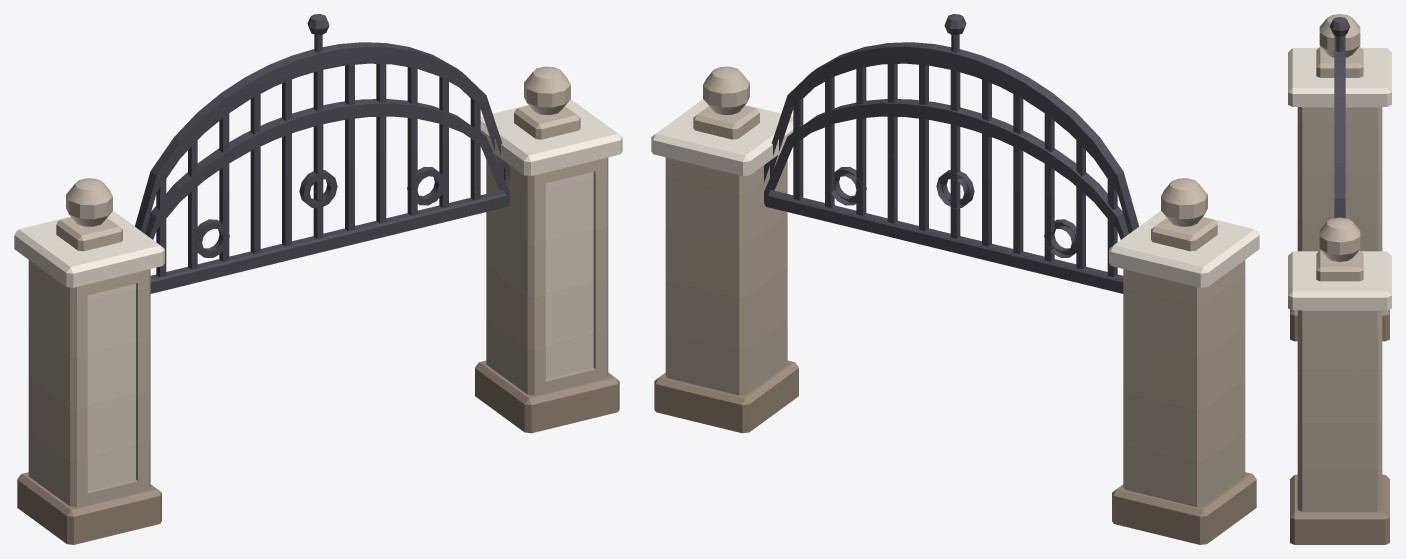
Rendered from park_gate.glb.
3 renders of one model, left to right at view 1: azimuth 30°, elevation 25°; view 2: azimuth 150°, elevation 25°; view 3: azimuth 270°, elevation 25°, orthographic. The views are drawn at different scales.
Visible parts, largest first — view 1: park_gate; view 2: park_gate; view 3: park_gate.
Boxes of the visible parts, x1=… form: park_gate: x1=14, y1=14, x2=622, y2=544; park_gate: x1=651, y1=14, x2=1259, y2=544; park_gate: x1=1288, y1=14, x2=1391, y2=544.
Size of the model in its own units: 6.2 by 4.73 by 1.1.
1 material, 1 textured.
